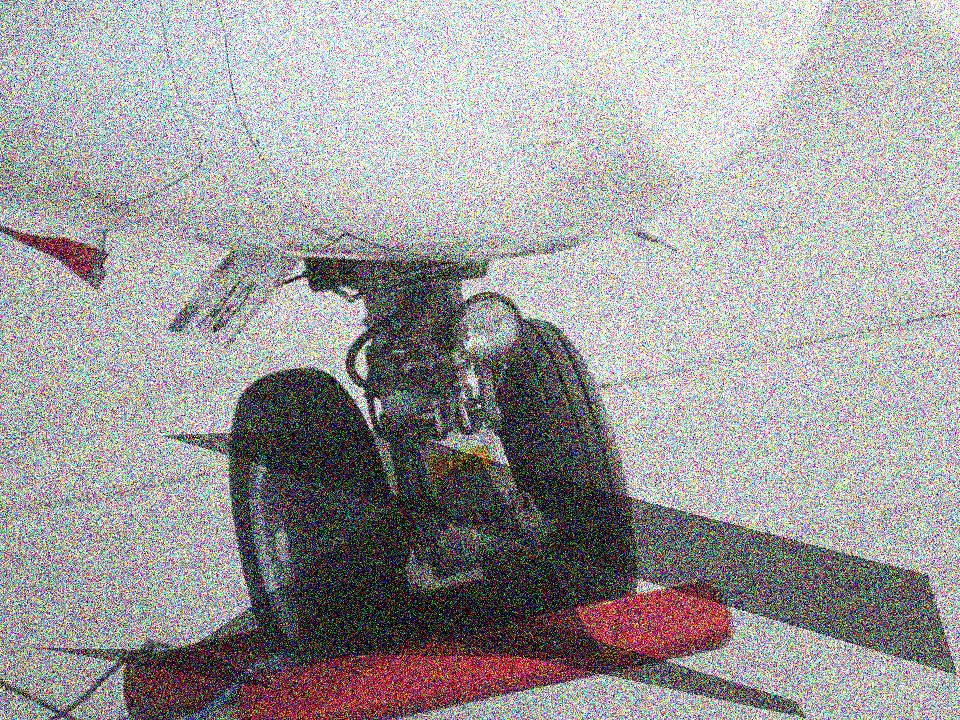chock: (221, 565, 746, 720), (110, 562, 542, 720)
wheel: (208, 352, 423, 677), (446, 301, 648, 623)
